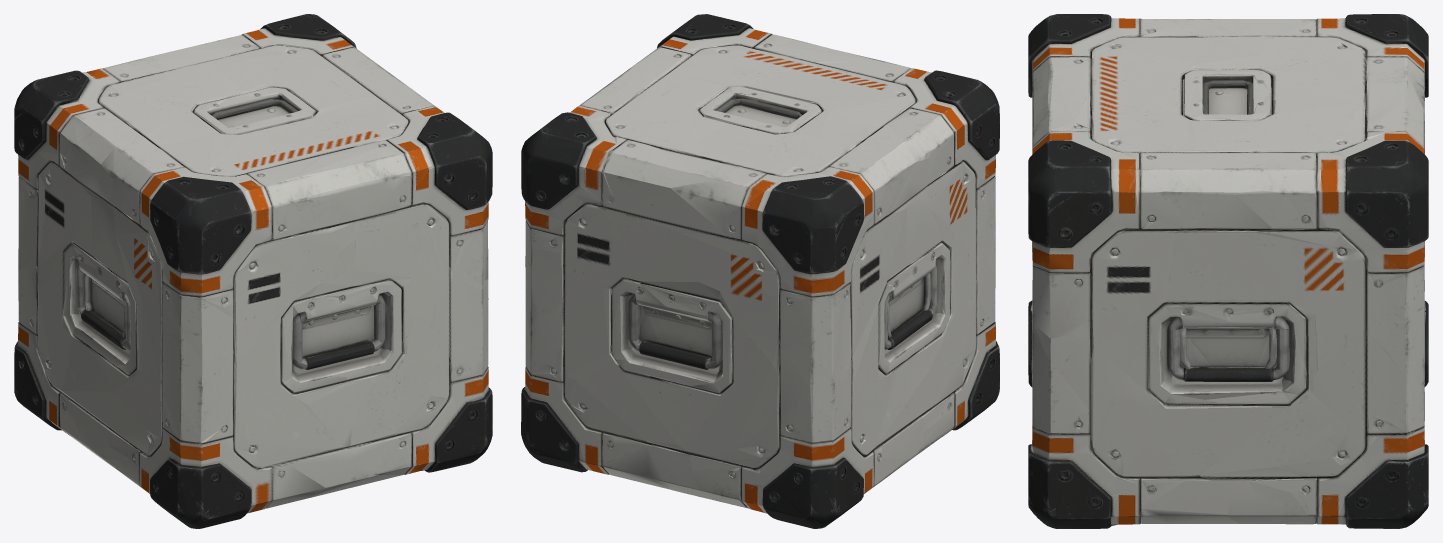
The model's file is ballast_cube.gltf.
The picture shows the model from 3 angles, left to right: view 1: azimuth 30°, elevation 25°; view 2: azimuth 150°, elevation 25°; view 3: azimuth 270°, elevation 25°; orthographic projection. The views are drawn at different scales.
Parts seen in each view (by area): view 1: Cube; view 2: Cube; view 3: Cube.
Boxes of the visible parts, bbox=[...] form: Cube: bbox=[14, 14, 492, 528]; Cube: bbox=[521, 14, 999, 528]; Cube: bbox=[1028, 14, 1428, 528].
Bounding box in the file's own units: 1 × 1 × 1.
1 material, 1 textured.
